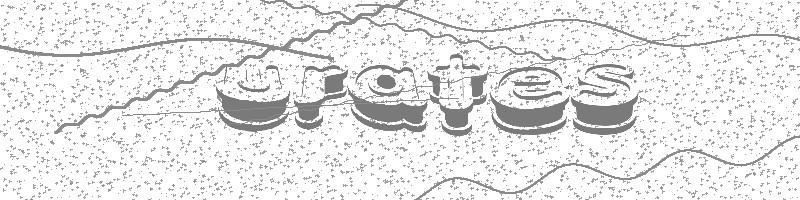a: (350, 65, 428, 133)
e: (491, 68, 570, 135)
r: (295, 65, 348, 130)
s: (571, 64, 637, 135)
t: (429, 54, 487, 136)
u: (219, 65, 290, 132)
